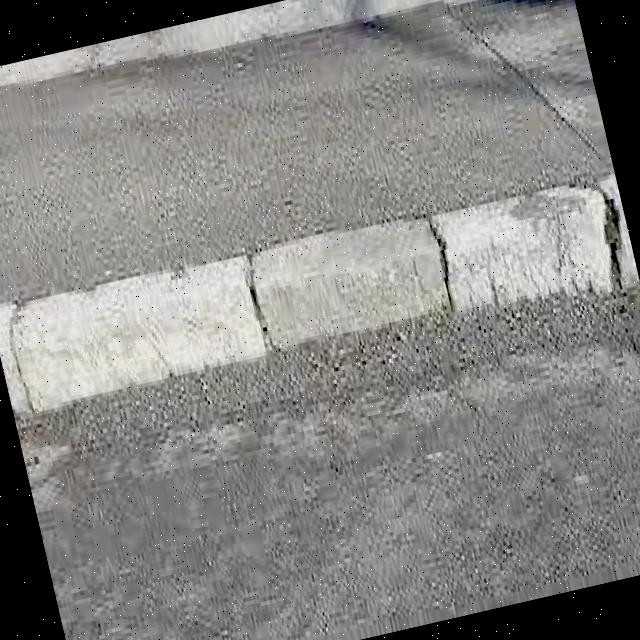curb: (1, 167, 638, 418)
